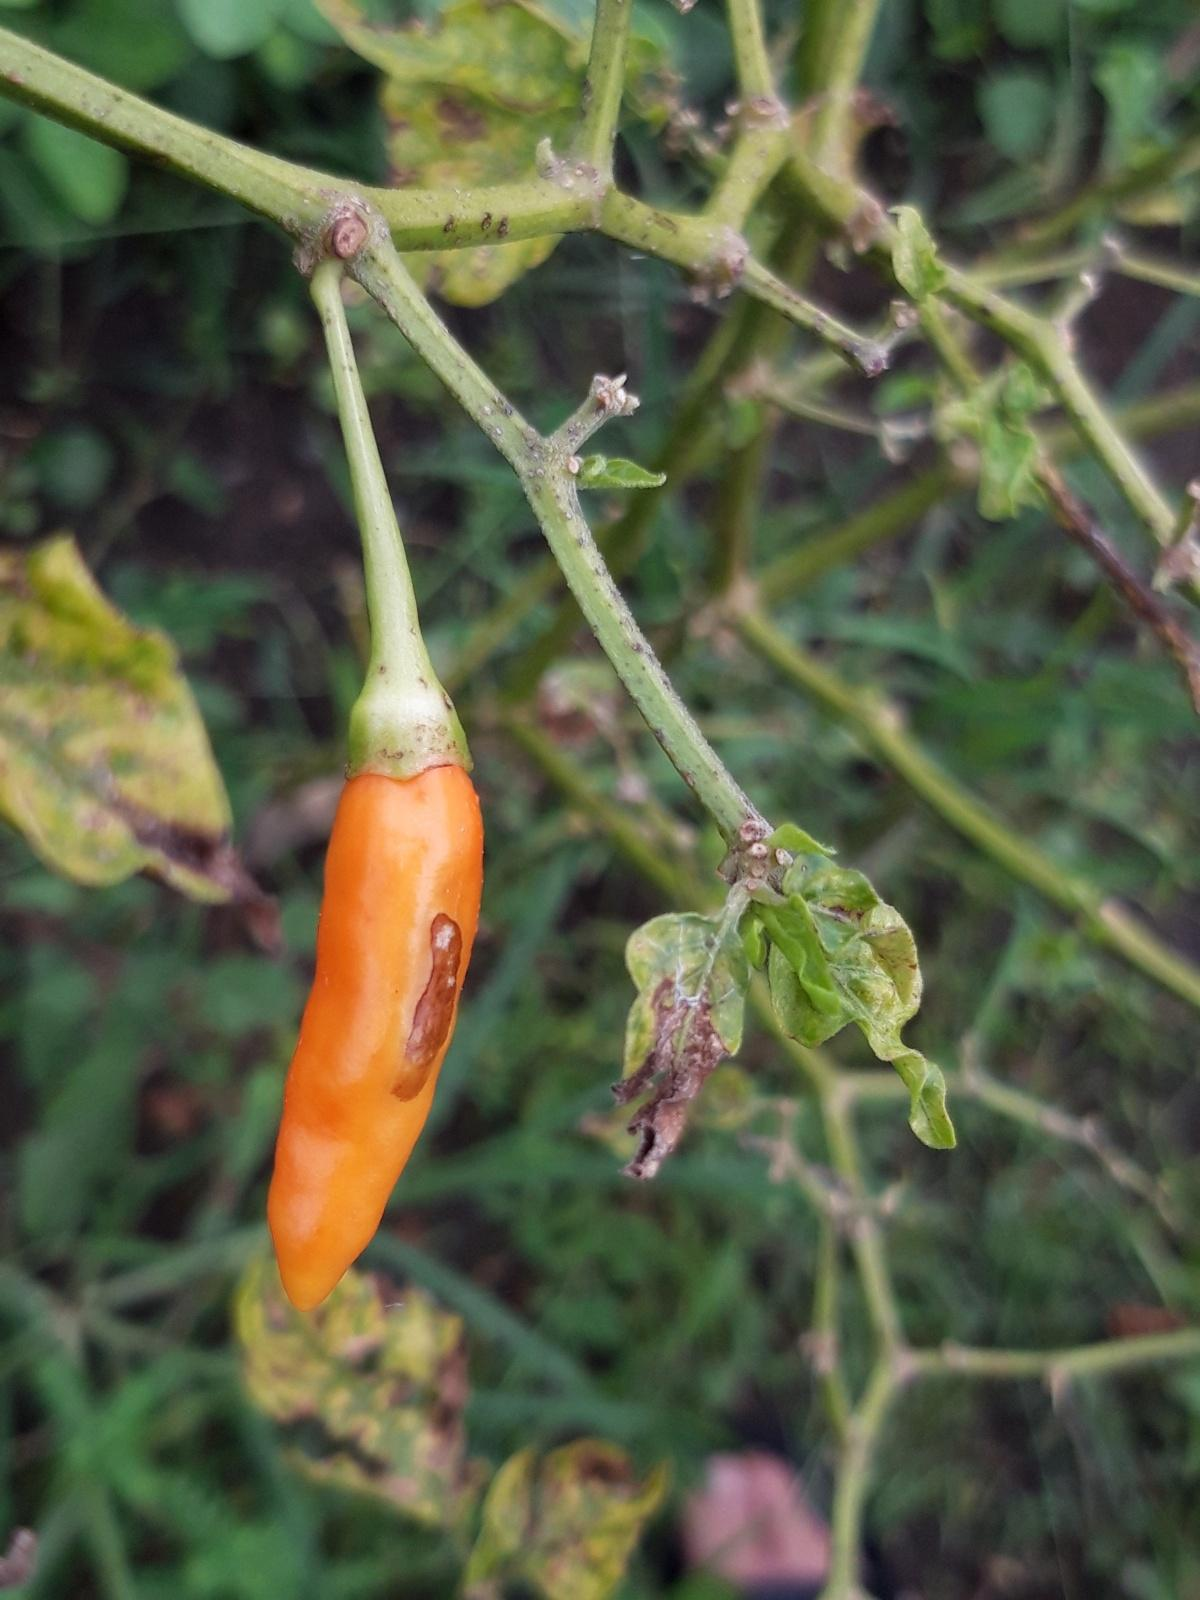lalat_buah: (261, 685, 485, 1314)
